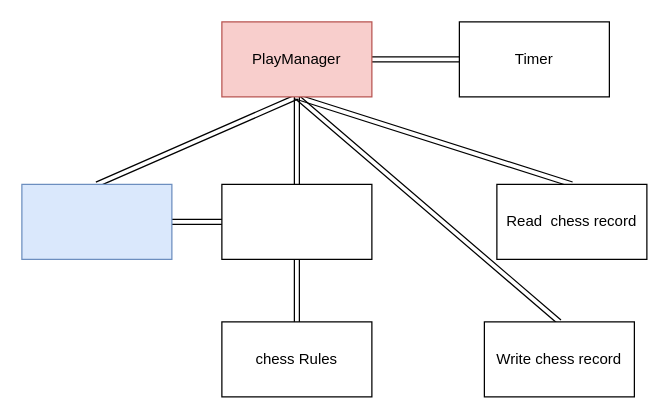
This 669x419 diagram has some shape labels left out. The shapes that lost their labels are listed below. From the top down, each one's box as (x1, y1, x2, y2) in pixels, then its label:
(21, 183, 172, 259): PlayerControl
(221, 183, 372, 259): ChessBoard Control
